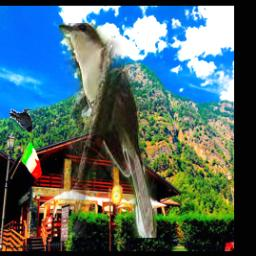Crow: (9, 109, 34, 133)
Cuckoo: (58, 23, 156, 238)
